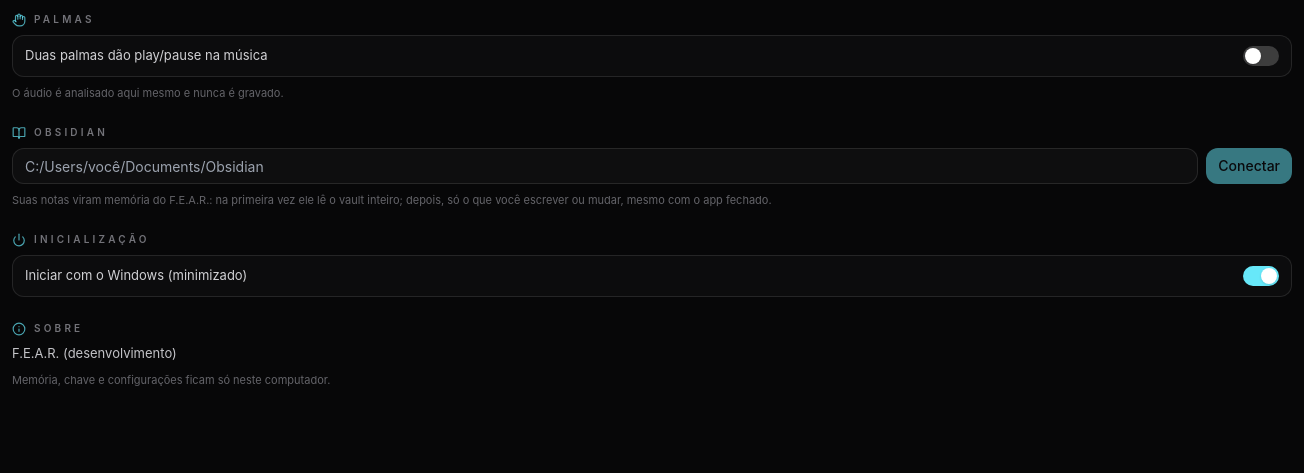
AppSettingsTab › shows the backend's reason when a change is refused
This screenshot has width=1304, height=473.
Type "X:/nada" into the field named "pasta do vault". click: (605, 166)
box: [12,148,1198,184]
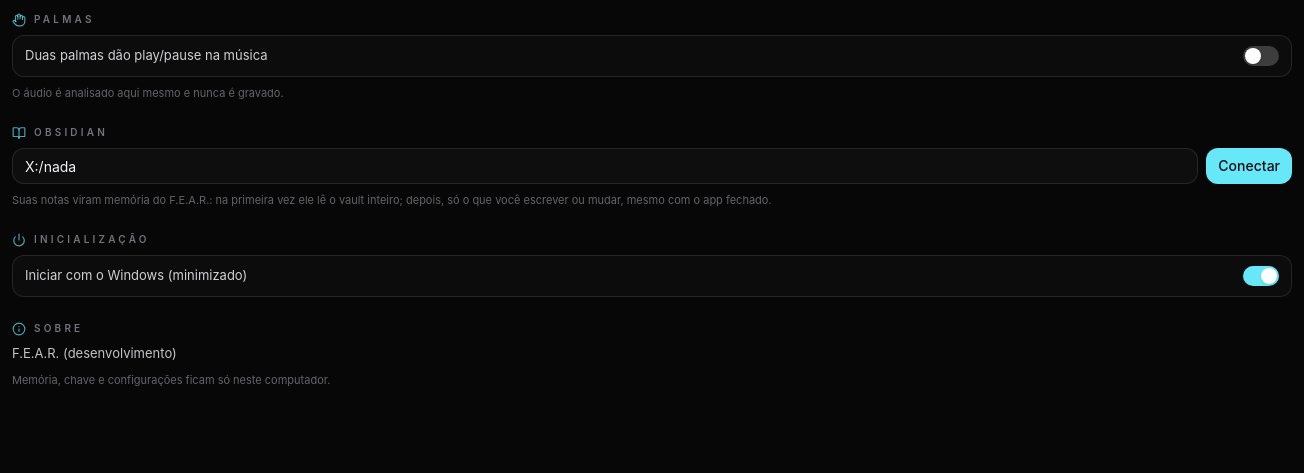
Click the button "Conectar". click: (1249, 166)
box: [1206,148,1292,184]
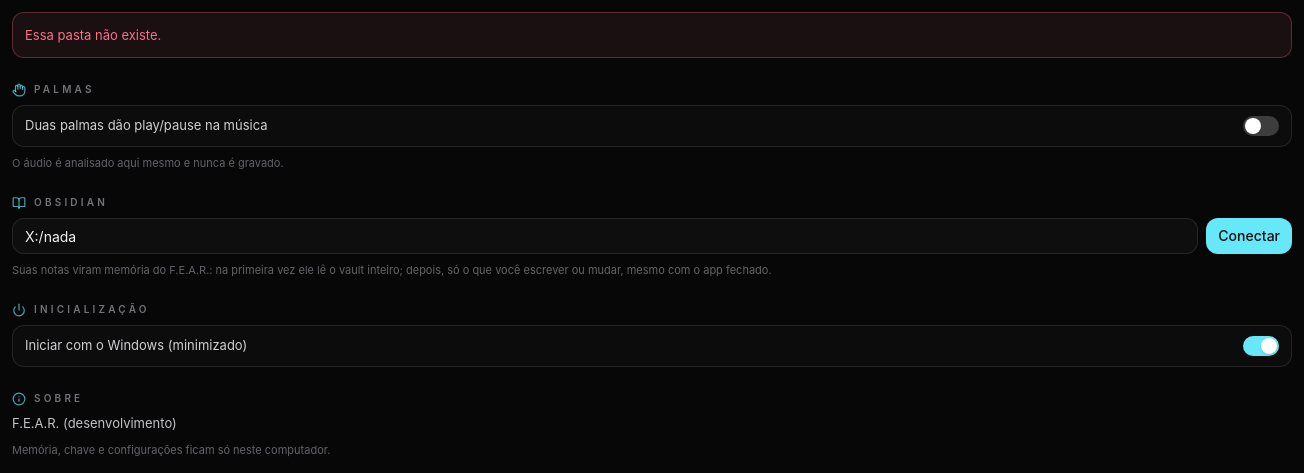
Expected: the text "Essa pasta não existe." is shown, [12,12,1292,58]
